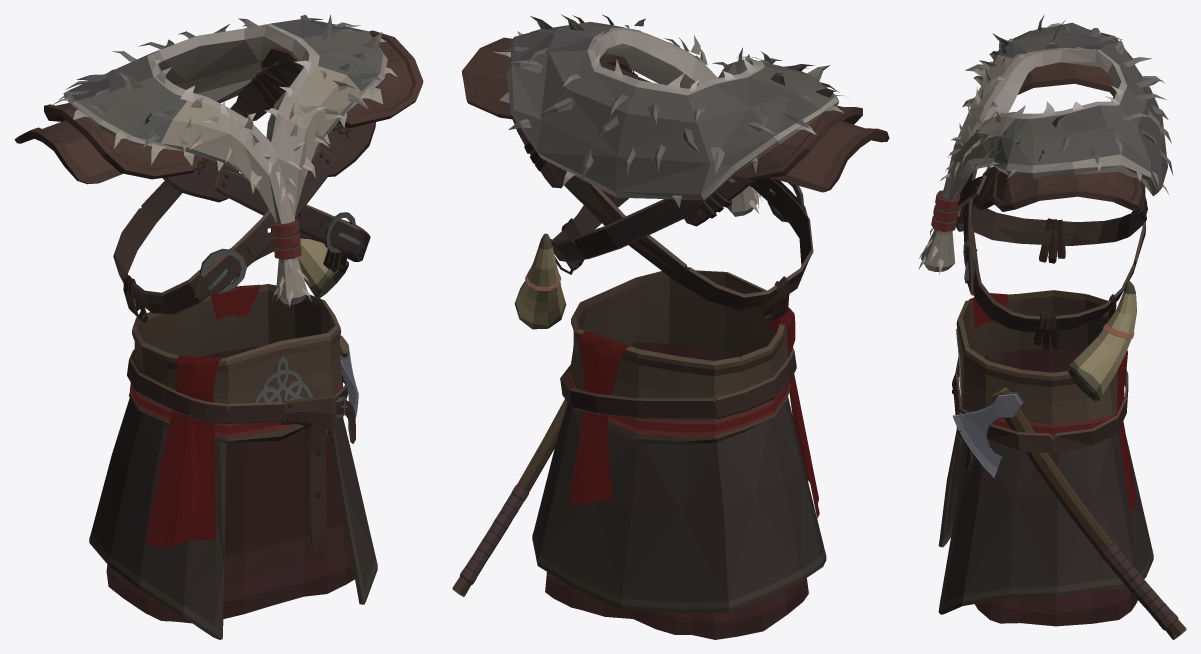
The model's file is vikingArmorWolfFur.glb.
The picture shows the model from 3 angles, left to right: view 1: azimuth 30°, elevation 25°; view 2: azimuth 150°, elevation 25°; view 3: azimuth 270°, elevation 25°; orthographic projection. The views are drawn at different scales.
Visible parts, largest first — view 1: vikingArmorWolfFur, wolfHelmet.001, wolfHelmet.003, bluntLightVikingAxe.001; view 2: vikingArmorWolfFur, wolfHelmet.001, wolfHelmet.003, bluntLightVikingAxe.001; view 3: vikingArmorWolfFur, wolfHelmet.001, bluntLightVikingAxe.001, wolfHelmet.003.
Part boxes in pixels (x1,y1,x2,y2): vikingArmorWolfFur: (14, 30, 423, 639); wolfHelmet.001: (63, 19, 387, 304); wolfHelmet.003: (51, 14, 397, 307); bluntLightVikingAxe.001: (340, 335, 358, 419); vikingArmorWolfFur: (462, 37, 889, 639); wolfHelmet.001: (506, 22, 838, 216); wolfHelmet.003: (492, 14, 843, 213); bluntLightVikingAxe.001: (452, 399, 567, 596); vikingArmorWolfFur: (938, 27, 1153, 626); wolfHelmet.001: (921, 22, 1167, 271); bluntLightVikingAxe.001: (952, 387, 1186, 639); wolfHelmet.003: (918, 14, 1173, 274).
Bounding box in the file's own units: 0.7872 × 1.11 × 0.5257.
